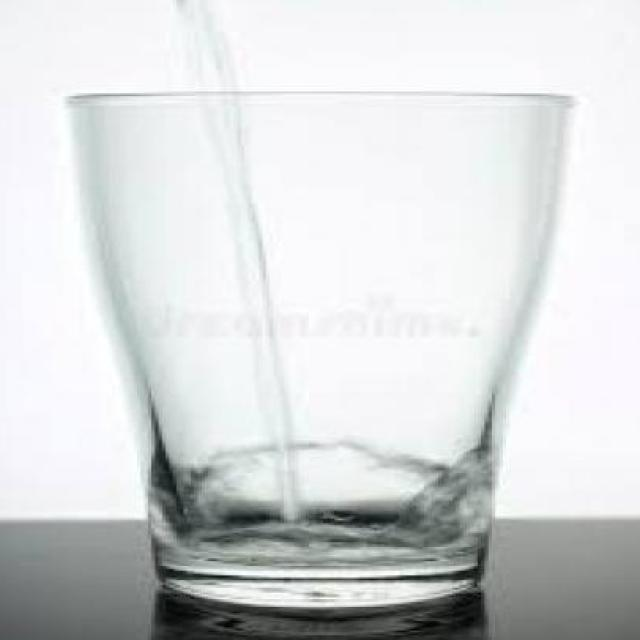kaca: (64, 89, 556, 636)
